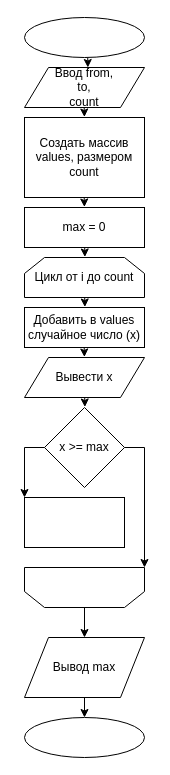
This 170x775 diagram has some shape labels left out. Here are the shapes that lost their labels. From the top down, the box of each, then its label:
(24, 16, 144, 58): Начало
(24, 496, 124, 548): max = x
(24, 566, 144, 608): i = i + 1
(24, 716, 144, 758): Конец
